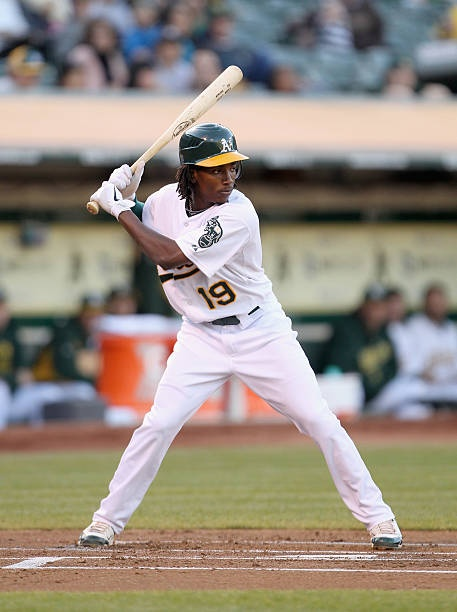bita: (87, 61, 242, 204)
